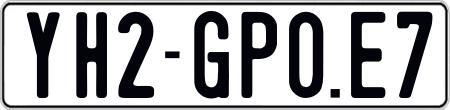0: (289, 12, 325, 99)
2: (118, 10, 154, 96)
7: (395, 11, 434, 97)
E: (350, 11, 387, 103)
G: (192, 11, 231, 101)
H: (74, 12, 110, 102)
P: (240, 12, 279, 102)
Y: (24, 10, 58, 96)
